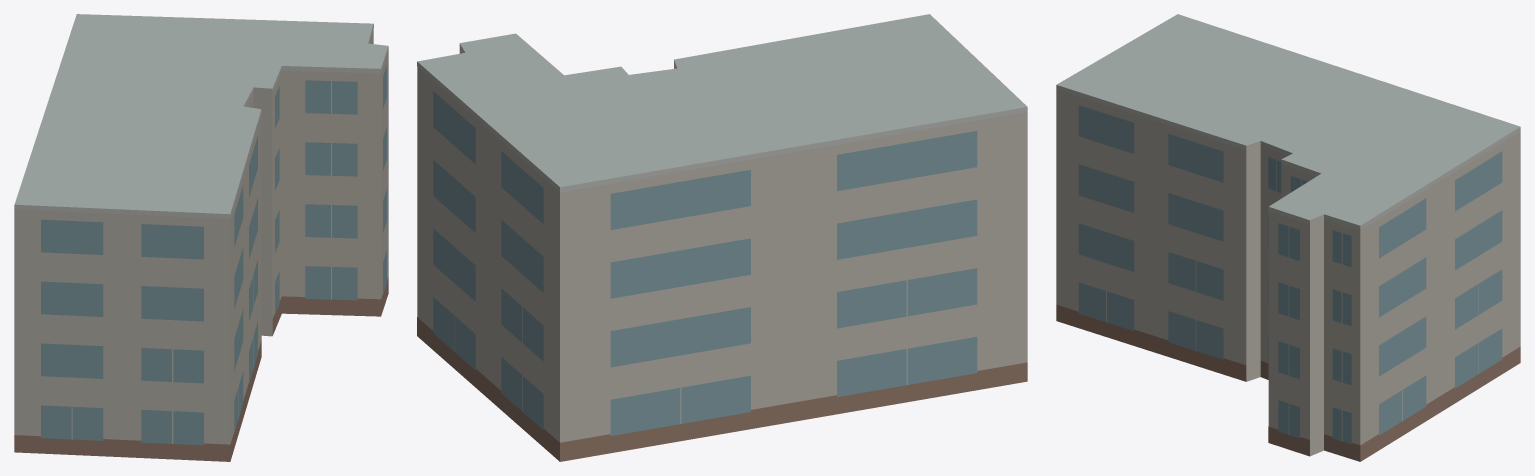
The model's file is survey-upis-32775759.glb.
3 views of the same model, side by side, from view 1: azimuth 30°, elevation 25°; view 2: azimuth 150°, elevation 25°; view 3: azimuth 270°, elevation 25° (orthographic). The views are drawn at different scales.
Visible parts, largest first — view 1: survey-upis-32775759.tmp; view 2: survey-upis-32775759.tmp; view 3: survey-upis-32775759.tmp.
Boxes of the visible parts, left/top/right/bottom form: survey-upis-32775759.tmp: left=14, top=14, right=388, bottom=461; survey-upis-32775759.tmp: left=417, top=14, right=1027, bottom=461; survey-upis-32775759.tmp: left=1056, top=14, right=1520, bottom=461.
Bounding box in the file's own units: 24.96 × 12.98 × 23.14.
